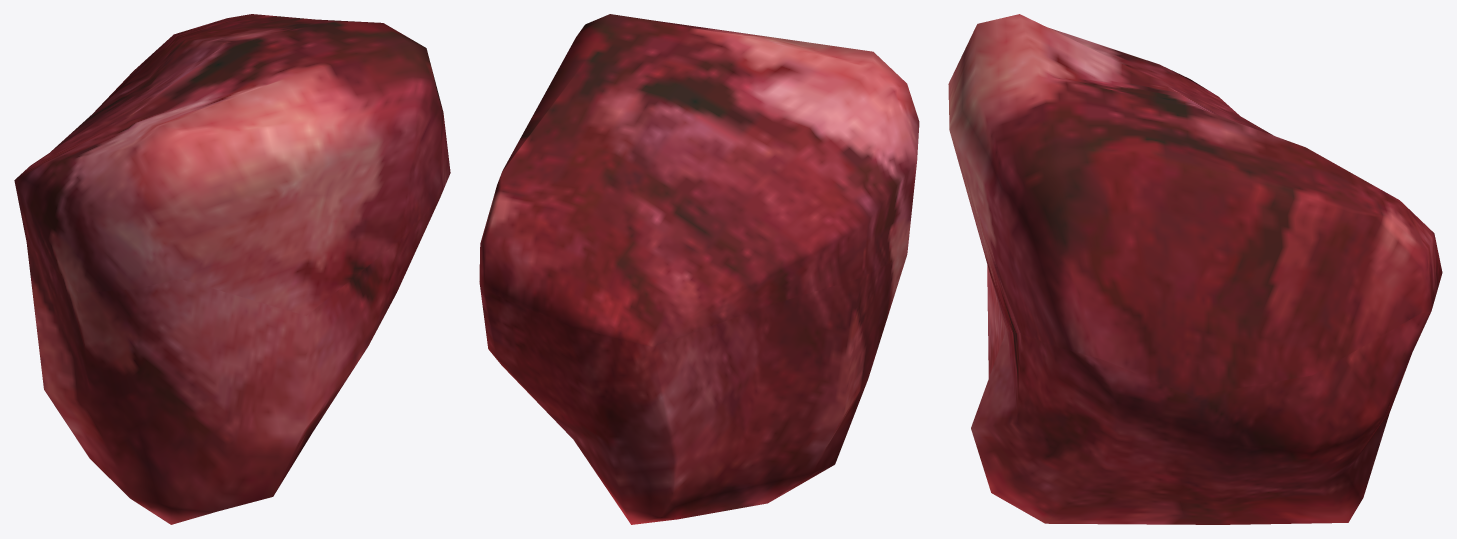
The model's file is gibSmall.dae.
The picture shows the model from 3 angles, left to right: view 1: azimuth 30°, elevation 25°; view 2: azimuth 150°, elevation 25°; view 3: azimuth 270°, elevation 25°; orthographic projection. The views are drawn at different scales.
Parts seen in each view (by area): view 1: smallGib; view 2: smallGib; view 3: smallGib.
Part boxes in pixels (bbox=[...]): smallGib: bbox=[14, 14, 450, 524]; smallGib: bbox=[479, 14, 919, 524]; smallGib: bbox=[948, 14, 1442, 524].
Size of the model in its own units: 0.2754 by 0.2845 by 0.269.
1 material, 1 textured.
